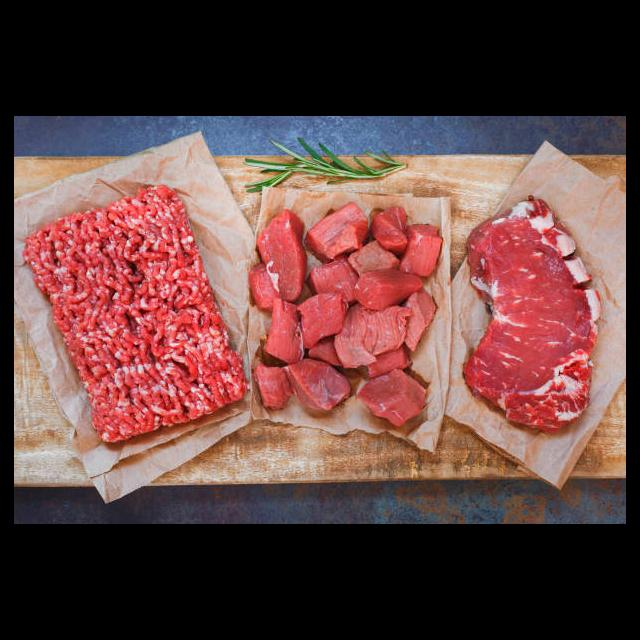beef: (23, 186, 248, 448), (250, 200, 448, 434), (464, 193, 607, 440)
